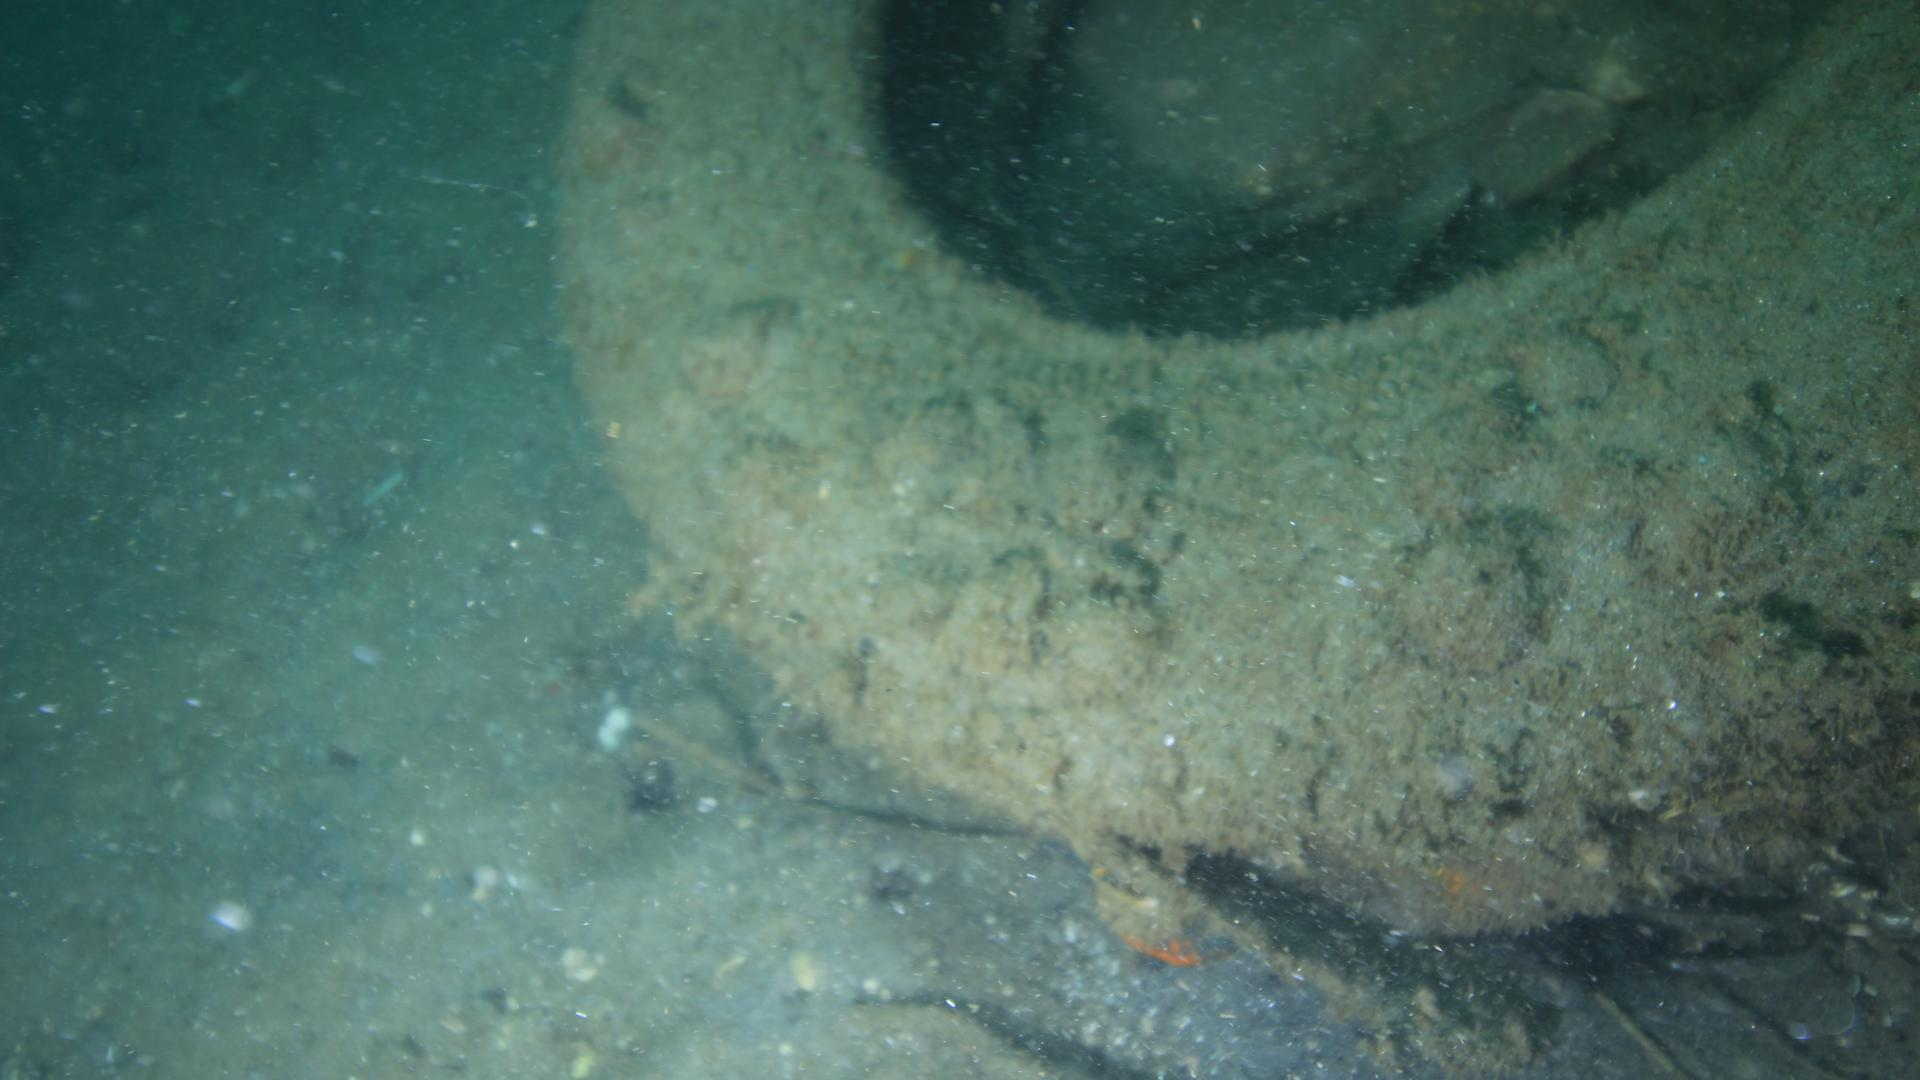tire: (555, 0, 1920, 940)
